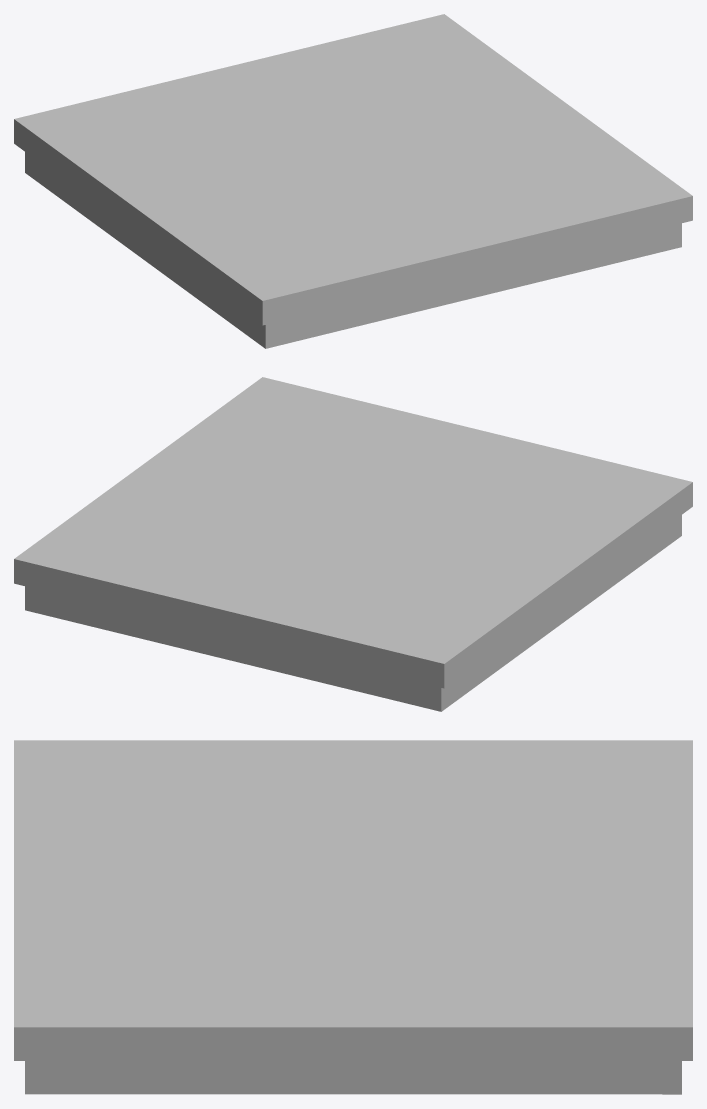
Rendered from Itr_Table6_Top_06.FBX.
The picture shows the model from 3 angles, top to bottom: view 1: azimuth 30°, elevation 25°; view 2: azimuth 150°, elevation 25°; view 3: azimuth 270°, elevation 25°; orthographic projection. The views are drawn at different scales.
Visible parts, largest first — view 1: Itr_Table6_Top_06; view 2: Itr_Table6_Top_06; view 3: Itr_Table6_Top_06.
Part boxes in pixels (<box>): Itr_Table6_Top_06: <box>14,14,692,348</box>; Itr_Table6_Top_06: <box>14,377,692,711</box>; Itr_Table6_Top_06: <box>14,740,692,1094</box>.
Size of the model in its own units: 40.13 by 4.69 by 40.15.
